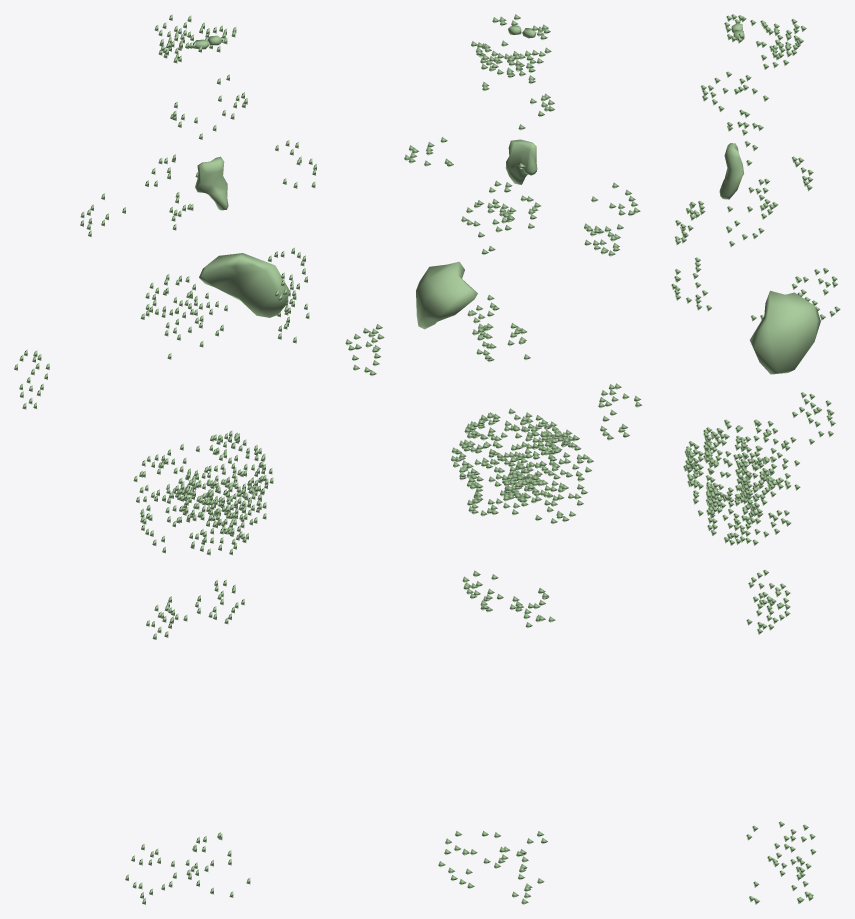
Rendered from icrp_adult_male.lymphatic.LOD3.glb.
3 views of the same model, side by side, from view 1: azimuth 30°, elevation 25°; view 2: azimuth 150°, elevation 25°; view 3: azimuth 270°, elevation 25° (orthographic). The views are drawn at different scales.
Visible parts, largest first — view 1: ICRP.ADULT.MALE.LYMPHATIC.LYMPHATIC_NODES_TRUNK, ICRP.ADULT.MALE.LYMPHATIC.SPLEEN, ICRP.ADULT.MALE.LYMPHATIC.LYMPHATIC_NODES_THORACIC, ICRP.ADULT.MALE.LYMPHATIC.THYMUS, ICRP.ADULT.MALE.LYMPHATIC.LYMPHATIC_NODES_ET, ICRP.ADULT.MALE.LYMPHATIC.LYMPHATIC_NODES_LEGS, ICRP.ADULT.MALE.LYMPHATIC.LYMPHATIC_NODES_ARMS; view 2: ICRP.ADULT.MALE.LYMPHATIC.LYMPHATIC_NODES_TRUNK, ICRP.ADULT.MALE.LYMPHATIC.SPLEEN, ICRP.ADULT.MALE.LYMPHATIC.LYMPHATIC_NODES_THORACIC, ICRP.ADULT.MALE.LYMPHATIC.LYMPHATIC_NODES_ET, ICRP.ADULT.MALE.LYMPHATIC.LYMPHATIC_NODES_ARMS, ICRP.ADULT.MALE.LYMPHATIC.THYMUS, ICRP.ADULT.MALE.LYMPHATIC.LYMPHATIC_NODES_LEGS; view 3: ICRP.ADULT.MALE.LYMPHATIC.LYMPHATIC_NODES_TRUNK, ICRP.ADULT.MALE.LYMPHATIC.SPLEEN, ICRP.ADULT.MALE.LYMPHATIC.LYMPHATIC_NODES_ET, ICRP.ADULT.MALE.LYMPHATIC.LYMPHATIC_NODES_LEGS, ICRP.ADULT.MALE.LYMPHATIC.LYMPHATIC_NODES_ARMS, ICRP.ADULT.MALE.LYMPHATIC.THYMUS, ICRP.ADULT.MALE.LYMPHATIC.LYMPHATIC_NODES_THORACIC, ICRP.ADULT.MALE.LYMPHATIC.LYMPHATIC_NODES_HEAD.
Part boxes in pixels (x1,y1,x2,y2): ICRP.ADULT.MALE.LYMPHATIC.LYMPHATIC_NODES_TRUNK: (80,140,316,639); ICRP.ADULT.MALE.LYMPHATIC.SPLEEN: (199,253,289,317); ICRP.ADULT.MALE.LYMPHATIC.LYMPHATIC_NODES_THORACIC: (140,154,227,359); ICRP.ADULT.MALE.LYMPHATIC.THYMUS: (195,156,228,210); ICRP.ADULT.MALE.LYMPHATIC.LYMPHATIC_NODES_ET: (154,14,236,63); ICRP.ADULT.MALE.LYMPHATIC.LYMPHATIC_NODES_LEGS: (125,832,250,904); ICRP.ADULT.MALE.LYMPHATIC.LYMPHATIC_NODES_ARMS: (14,289,309,409); ICRP.ADULT.MALE.LYMPHATIC.LYMPHATIC_NODES_TRUNK: (404,137,640,628); ICRP.ADULT.MALE.LYMPHATIC.SPLEEN: (416,261,477,329); ICRP.ADULT.MALE.LYMPHATIC.LYMPHATIC_NODES_THORACIC: (467,163,540,362); ICRP.ADULT.MALE.LYMPHATIC.LYMPHATIC_NODES_ET: (471,14,551,78); ICRP.ADULT.MALE.LYMPHATIC.LYMPHATIC_NODES_ARMS: (345,324,642,440); ICRP.ADULT.MALE.LYMPHATIC.THYMUS: (505,139,537,184); ICRP.ADULT.MALE.LYMPHATIC.LYMPHATIC_NODES_LEGS: (438,831,547,904); ICRP.ADULT.MALE.LYMPHATIC.LYMPHATIC_NODES_TRUNK: (671,112,800,634); ICRP.ADULT.MALE.LYMPHATIC.SPLEEN: (750,290,820,374); ICRP.ADULT.MALE.LYMPHATIC.LYMPHATIC_NODES_ET: (724,14,806,69); ICRP.ADULT.MALE.LYMPHATIC.LYMPHATIC_NODES_LEGS: (746,821,816,904); ICRP.ADULT.MALE.LYMPHATIC.LYMPHATIC_NODES_ARMS: (792,268,840,444); ICRP.ADULT.MALE.LYMPHATIC.THYMUS: (719,143,743,199); ICRP.ADULT.MALE.LYMPHATIC.LYMPHATIC_NODES_THORACIC: (746,156,817,321); ICRP.ADULT.MALE.LYMPHATIC.LYMPHATIC_NODES_HEAD: (700,71,768,128).
Bounding box in the file's own units: 0.4025 × 1.19 × 0.2084.
